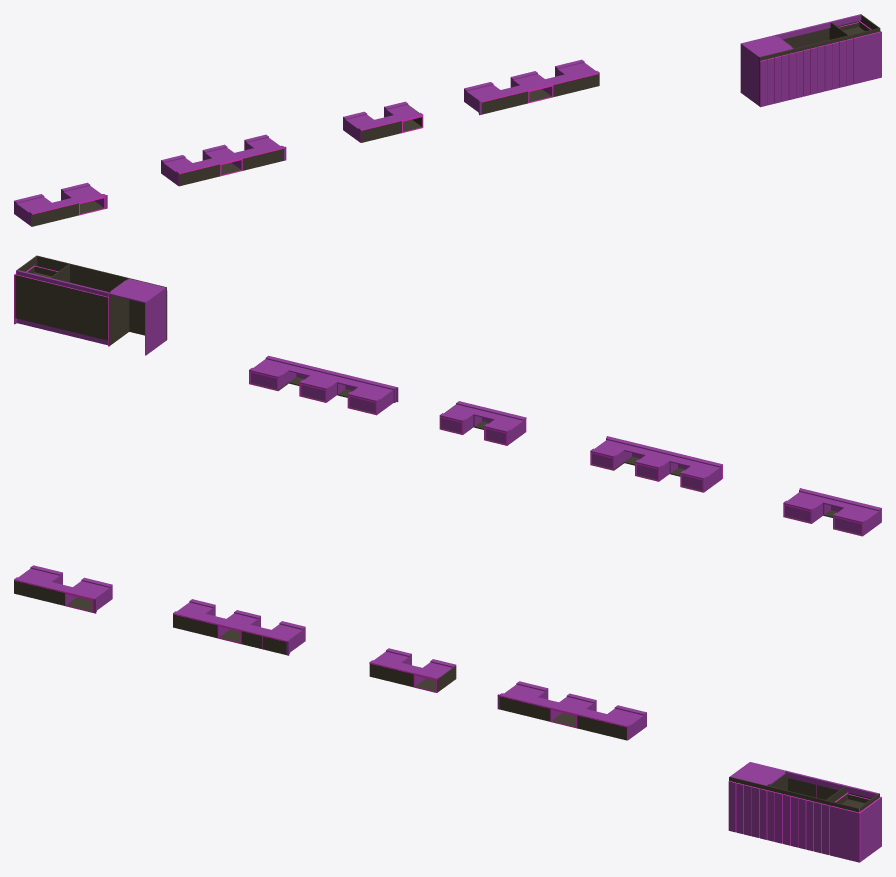
The picture shows the model from 3 angles, top to bottom: view 1: azimuth 30°, elevation 25°; view 2: azimuth 150°, elevation 25°; view 3: azimuth 330°, elevation 25°; orthographic projection. The views are drawn at different scales.
Parts seen in each view (by area): view 1: ABF_PART_131____LYR_[Layer0]____131. Bàn đảo - Ốp lam trước , ABF_PART_132____LYR_[Layer0]____132. Bàn đảo - Hông phải, ABF_PART_163____LYR_[Layer0]____163. Bàn đảo - Nóc, ABF_PART_145____LYR_[Layer0]____145. Bàn đảo - Hậu, ABF_PART_101____LYR_[Layer0]____101. Lavabo 4 - modul trái -, ABF_PART_151____LYR_[Layer0]____151. Bàn đảo - Đà, ABF_PART_45____LYR_[Layer0]____45. Lavabo 2 - modul trái - Đ; view 2: ABF_PART_145____LYR_[Layer0]____145. Bàn đảo - Hậu, ABF_PART_132____LYR_[Layer0]____132. Bàn đảo - Hông phải, ABF_PART_133____LYR_[_CÁNH]____133. Bàn đảo - Cánh trái, ABF_PART_134____LYR_[_CÁNH]____134. Bàn đảo - Cánh phải, ABF_PART_128____LYR_[Layer0]____128. Bàn đảo - Hông giữa, ABF_PART_163____LYR_[Layer0]____163. Bàn đảo - Nóc, ABF_PART_101____LYR_[Layer0]____101. Lavabo 4 - modul trái -, ABF_PART_87____LYR_[Layer0]____87. Lavabo 4 - modul phải - N, ABF_PART_9____LYR_[Layer0]____9. Lavabo 1 - modul phải - Nóc, ABF_PART_93____LYR_[Layer0]____93. Lavabo 4 - modul trái - N; view 3: ABF_PART_131____LYR_[Layer0]____131. Bàn đảo - Ốp lam trước , ABF_PART_138____LYR_[Layer0]____138. Bàn đảo - Ốp hông (Chém, ABF_PART_163____LYR_[Layer0]____163. Bàn đảo - Nóc, ABF_PART_145____LYR_[Layer0]____145. Bàn đảo - Hậu, ABF_PART_101____LYR_[Layer0]____101. Lavabo 4 - modul trái -, ABF_PART_151____LYR_[Layer0]____151. Bàn đảo - Đà.
Boxes of the visible parts, x1,y1,x2,y2 form: ABF_PART_131____LYR_[Layer0]____131. Bàn đảo - Ốp lam trước : (853, 31, 881, 84); ABF_PART_132____LYR_[Layer0]____132. Bàn đảo - Hông phải: (740, 43, 759, 105); ABF_PART_163____LYR_[Layer0]____163. Bàn đảo - Nóc: (742, 35, 792, 56); ABF_PART_145____LYR_[Layer0]____145. Bàn đảo - Hậu: (759, 28, 880, 106); ABF_PART_101____LYR_[Layer0]____101. Lavabo 4 - modul trái -: (479, 71, 599, 102); ABF_PART_151____LYR_[Layer0]____151. Bàn đảo - Đà: (777, 15, 861, 39); ABF_PART_45____LYR_[Layer0]____45. Lavabo 2 - modul trái - Đ: (176, 145, 283, 174); ABF_PART_145____LYR_[Layer0]____145. Bàn đảo - Hậu: (36, 255, 166, 340); ABF_PART_132____LYR_[Layer0]____132. Bàn đảo - Hông phải: (145, 287, 166, 355); ABF_PART_133____LYR_[_CÁNH]____133. Bàn đảo - Cánh trái: (49, 282, 78, 331); ABF_PART_134____LYR_[_CÁNH]____134. Bàn đảo - Cánh phải: (79, 290, 108, 340); ABF_PART_128____LYR_[Layer0]____128. Bàn đảo - Hông giữa: (108, 278, 129, 346); ABF_PART_163____LYR_[Layer0]____163. Bàn đảo - Nóc: (109, 278, 164, 303); ABF_PART_101____LYR_[Layer0]____101. Lavabo 4 - modul trái -: (265, 355, 395, 389); ABF_PART_87____LYR_[Layer0]____87. Lavabo 4 - modul phải - N: (250, 359, 314, 378); ABF_PART_9____LYR_[Layer0]____9. Lavabo 1 - modul phải - Nóc: (824, 499, 878, 523); ABF_PART_93____LYR_[Layer0]____93. Lavabo 4 - modul trái - N: (338, 378, 391, 402); ABF_PART_131____LYR_[Layer0]____131. Bàn đảo - Ốp lam trước : (829, 805, 860, 862); ABF_PART_138____LYR_[Layer0]____138. Bàn đảo - Ốp hông (Chém: (859, 797, 881, 861); ABF_PART_163____LYR_[Layer0]____163. Bàn đảo - Nóc: (731, 762, 786, 785); ABF_PART_145____LYR_[Layer0]____145. Bàn đảo - Hậu: (729, 776, 859, 812); ABF_PART_101____LYR_[Layer0]____101. Lavabo 4 - modul trái -: (500, 693, 630, 727); ABF_PART_151____LYR_[Layer0]____151. Bàn đảo - Đà: (786, 771, 877, 798).
Bounding box in the file's own units: 14.76 × 0.85 × 1.61.
